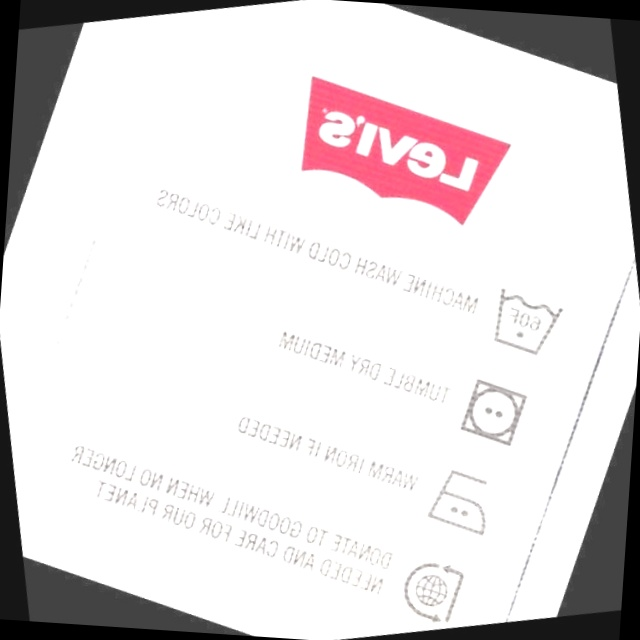30C: (480, 272, 571, 366)
iron_medium: (413, 455, 505, 547)
tumble_dry_medium: (446, 366, 537, 456)
